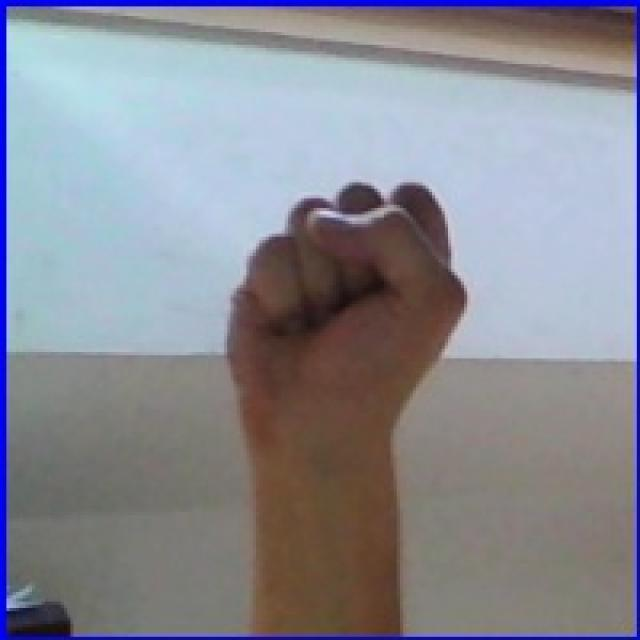Letra-S: (188, 150, 502, 493)
